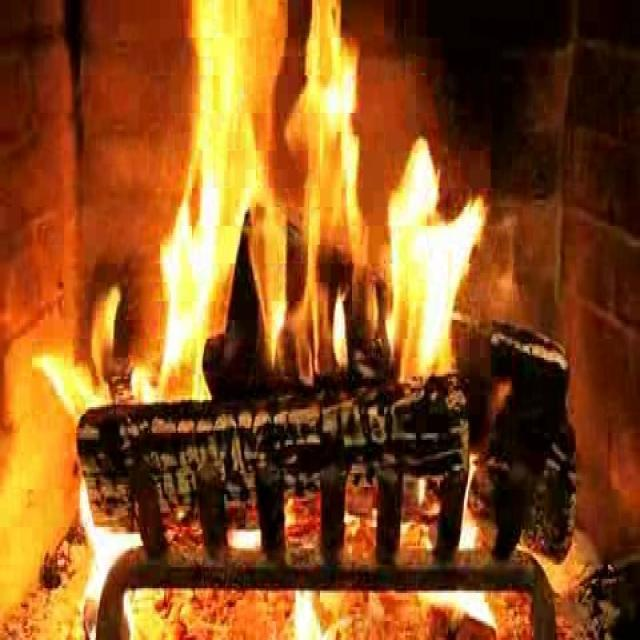Fire: (132, 6, 488, 417)
